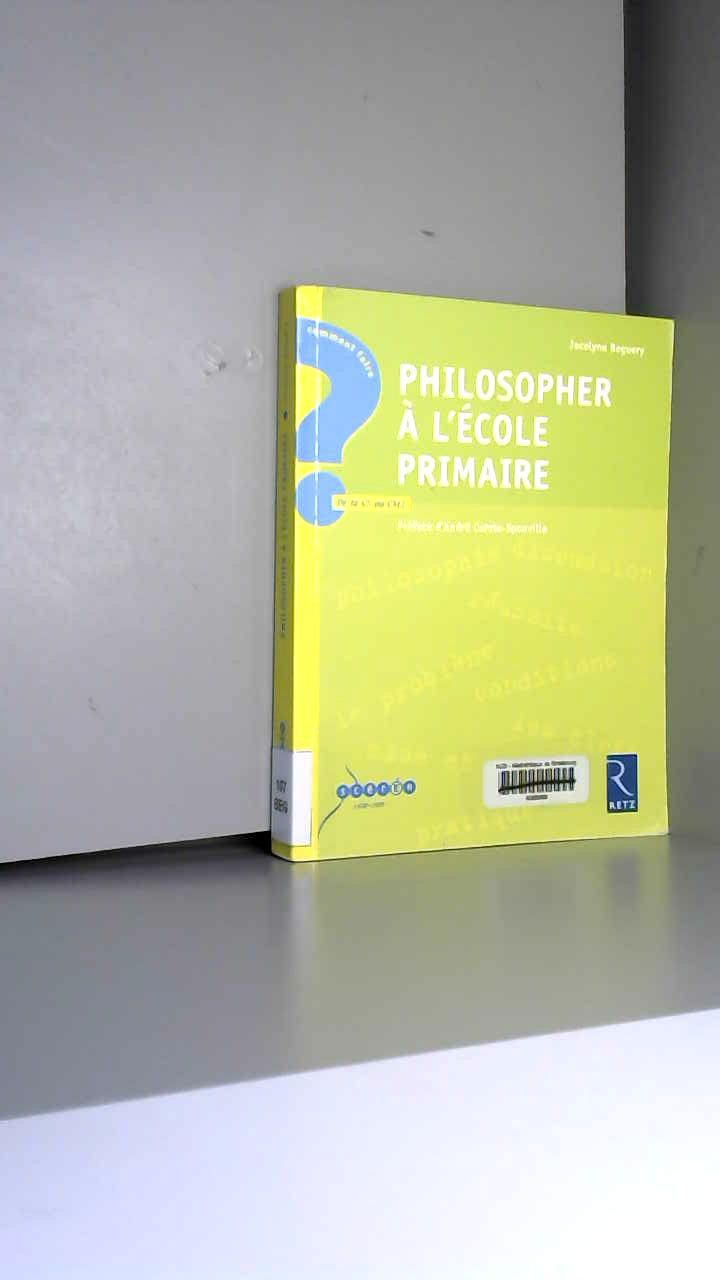book: (240, 260, 718, 943)
